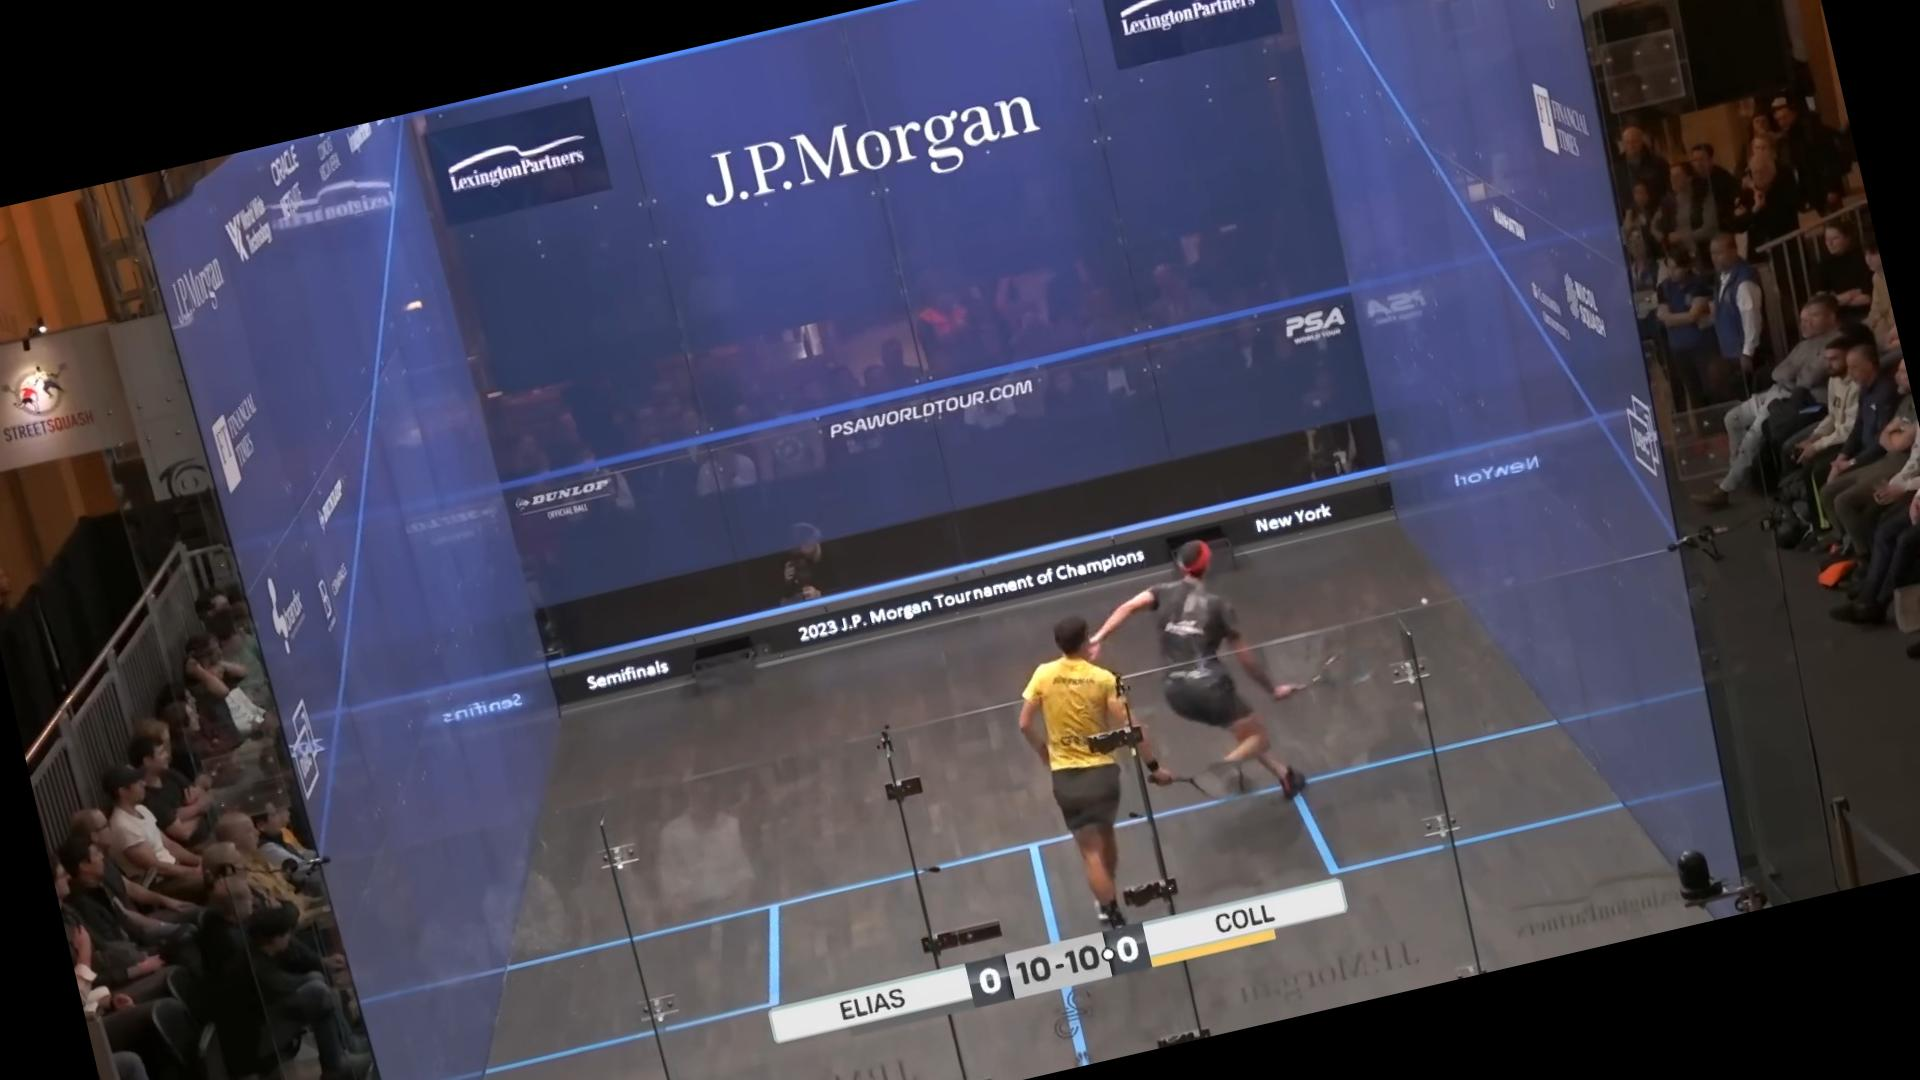Racket: (1147, 740, 1258, 819), (1279, 637, 1386, 705)
